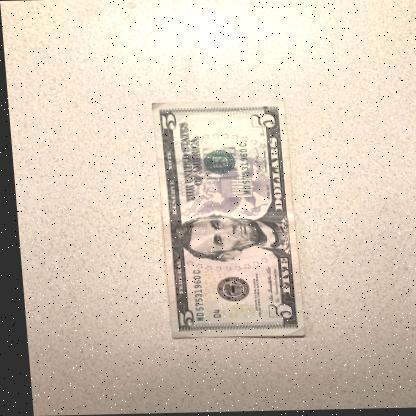five-front: (150, 100, 300, 340)
